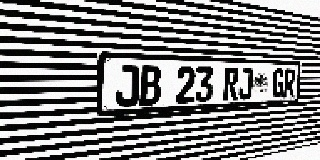2: (176, 66, 196, 104)
3: (195, 67, 213, 103)
B: (139, 65, 161, 106)
G: (272, 69, 285, 98)
J: (115, 65, 139, 107), (238, 68, 253, 100)
R: (223, 67, 239, 101), (283, 69, 296, 97)
